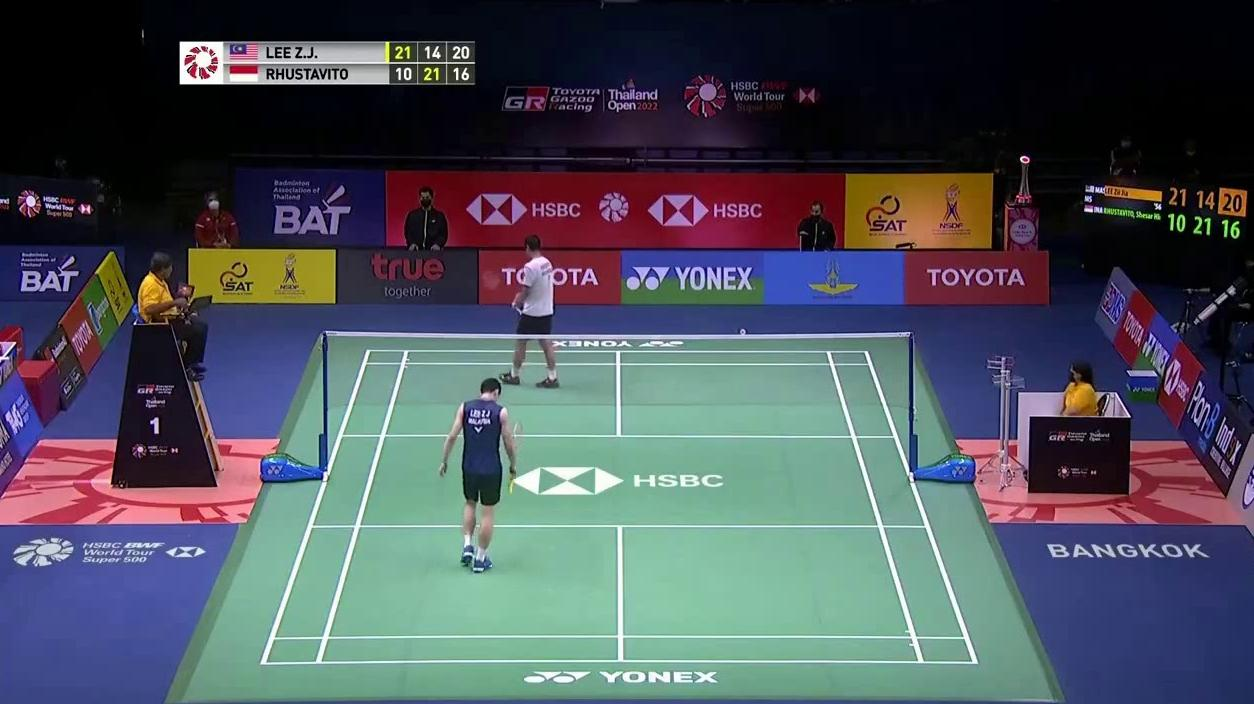racket: (479, 267, 524, 314), (506, 418, 527, 496)
shuttle: (737, 326, 749, 337)
